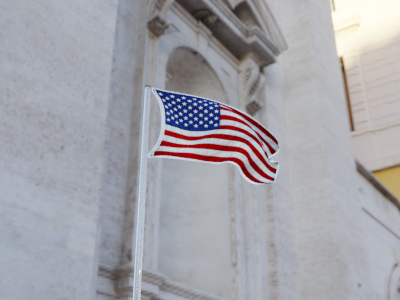America flag: (151, 87, 280, 186)
